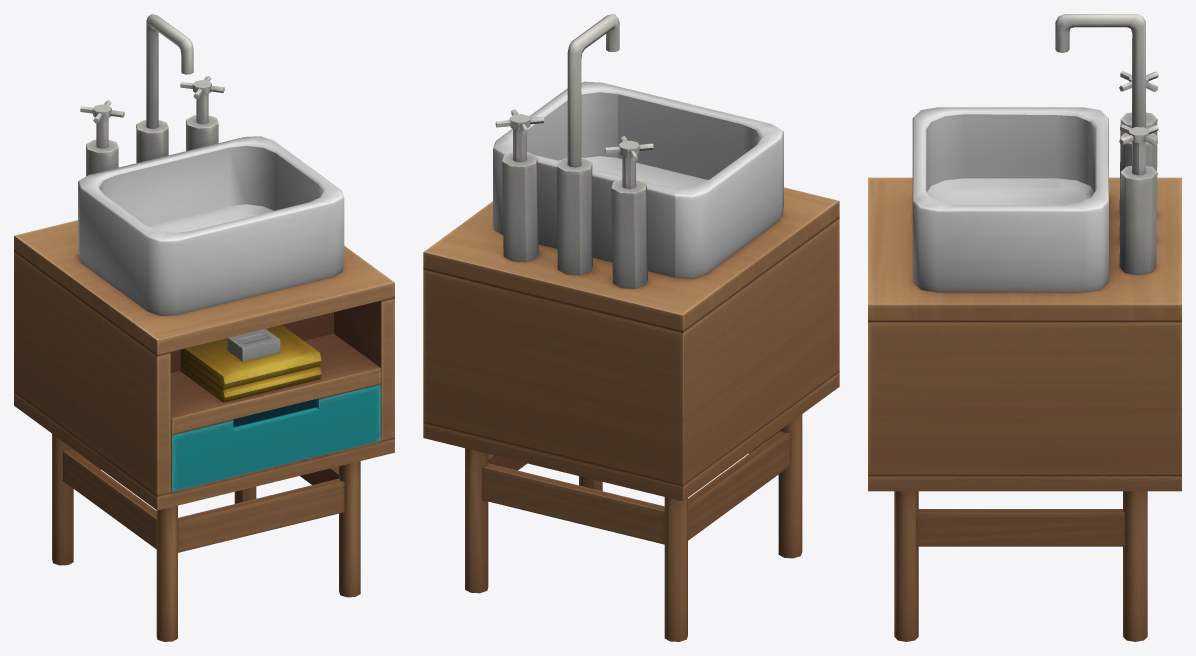
The model's file is the_sinkz_bathroom_vanity.glb.
3 views of the same model, side by side, from view 1: azimuth 30°, elevation 25°; view 2: azimuth 150°, elevation 25°; view 3: azimuth 270°, elevation 25° (orthographic). The views are drawn at different scales.
Visible parts, largest first — view 1: TinyLiving_TheSinkzBathroomVanity; view 2: TinyLiving_TheSinkzBathroomVanity; view 3: TinyLiving_TheSinkzBathroomVanity.
Boxes of the visible parts, x1=… form: TinyLiving_TheSinkzBathroomVanity: x1=14, y1=14, x2=394, y2=641; TinyLiving_TheSinkzBathroomVanity: x1=423, y1=14, x2=839, y2=641; TinyLiving_TheSinkzBathroomVanity: x1=868, y1=14, x2=1181, y2=641.
Size of the model in its own units: 0.6502 by 1.37 by 0.6793.
Materials: 1 (1 with a texture image).
